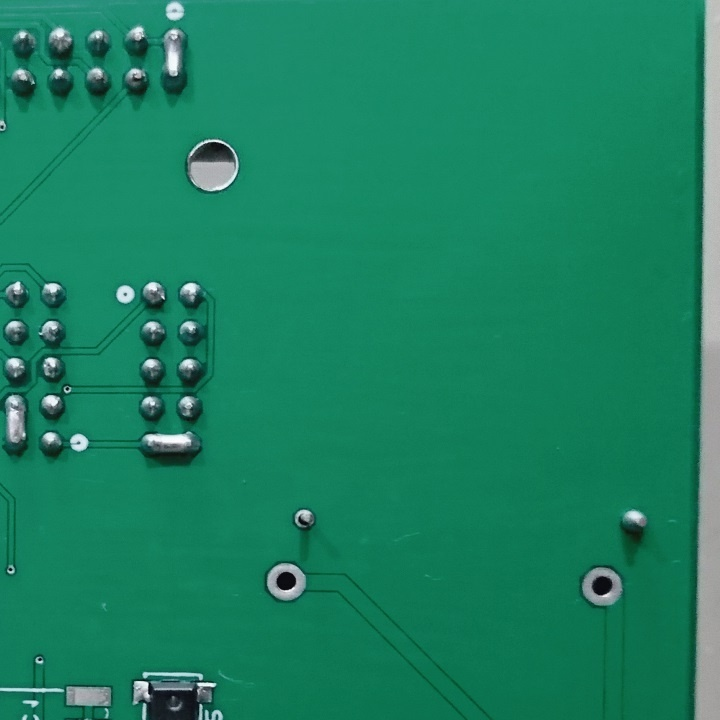F: (579, 561, 627, 613), (263, 560, 311, 605), (290, 504, 318, 535)
P: (157, 23, 192, 98), (136, 429, 204, 464), (1, 387, 34, 459)
